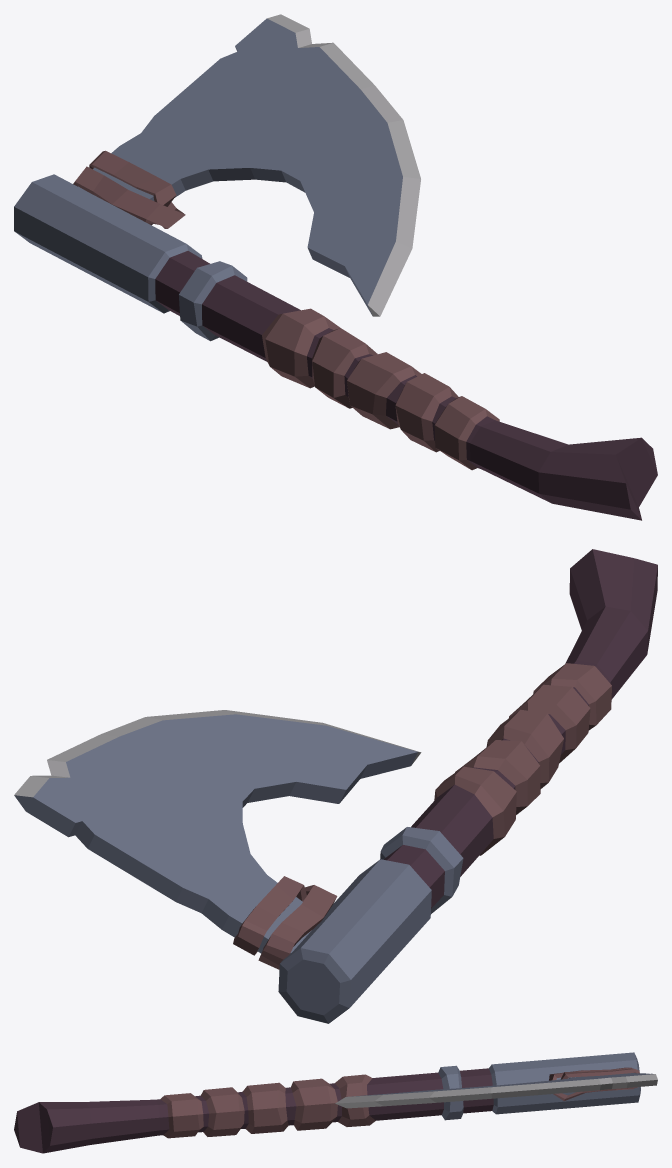
Rendered from axe.glb.
The picture shows the model from 3 angles, top to bottom: view 1: azimuth 30°, elevation 25°; view 2: azimuth 150°, elevation 25°; view 3: azimuth 270°, elevation 25°; orthographic projection. The views are drawn at different scales.
Visible parts, largest first — view 1: Axe_small; view 2: Axe_small; view 3: Axe_small.
Part boxes in pixels (x1,y1,x2,y2): Axe_small: (14, 14, 657, 520); Axe_small: (14, 549, 657, 1023); Axe_small: (14, 1052, 657, 1153).
Size of the model in its own units: 0.5885 by 0.3001 by 1.6.
